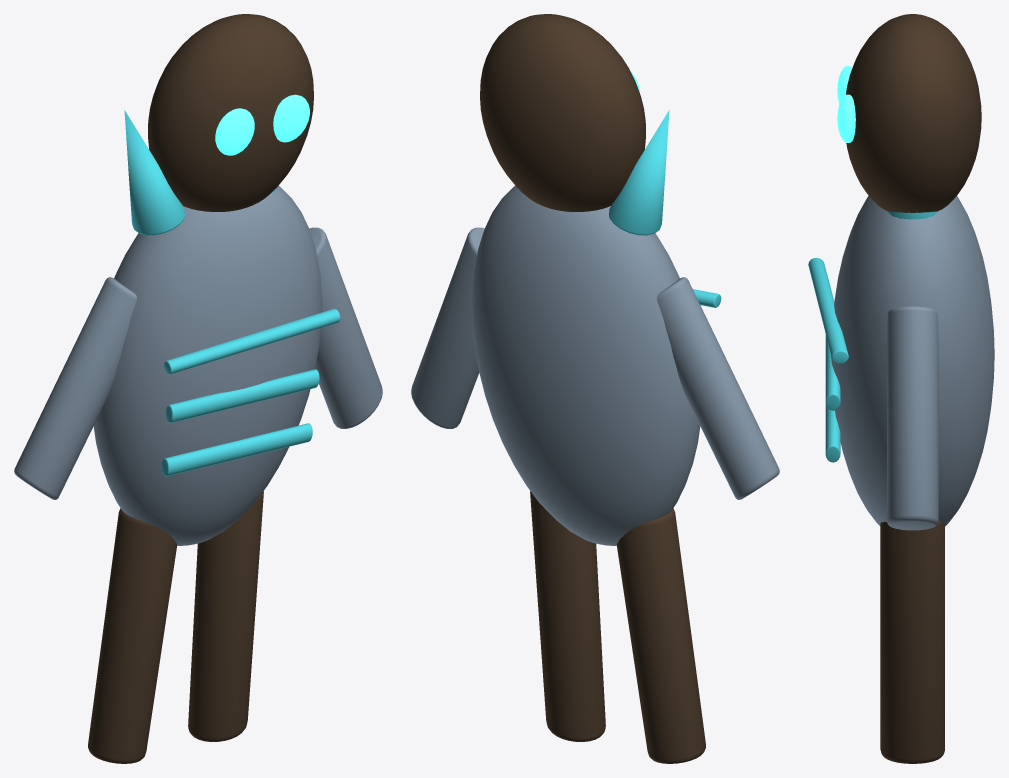
File: undead_v4.glb
3 views of the same model, side by side, from view 1: azimuth 30°, elevation 25°; view 2: azimuth 150°, elevation 25°; view 3: azimuth 270°, elevation 25° (orthographic). The views are drawn at different scales.
Visible parts, largest first — view 1: BODY_PRIMARY, HEAD_SECONDARY, LEG_L_SECONDARY, LEG_R_SECONDARY, ARM_L_PRIMARY, ARM_R_PRIMARY, CROWN_HORN_ACCENT, RIB_ACCENT, RIB_ACCENT.001, RIB_ACCENT.002, EYE_EMISSIVE, EYE_EMISSIVE.001; view 2: BODY_PRIMARY, HEAD_SECONDARY, LEG_L_SECONDARY, LEG_R_SECONDARY, ARM_L_PRIMARY, ARM_R_PRIMARY, CROWN_HORN_ACCENT; view 3: BODY_PRIMARY, HEAD_SECONDARY, LEG_R_SECONDARY, ARM_R_PRIMARY, RIB_ACCENT.002, EYE_EMISSIVE.001, RIB_ACCENT, RIB_ACCENT.001.
Boxes of the visible parts, x1,y1,x2,y2 form: BODY_PRIMARY: (93,185,322,545); HEAD_SECONDARY: (148,14,313,211); LEG_L_SECONDARY: (88,508,176,763); LEG_R_SECONDARY: (188,491,263,741); ARM_L_PRIMARY: (14,277,136,499); ARM_R_PRIMARY: (309,227,382,428); CROWN_HORN_ACCENT: (124,110,184,235); RIB_ACCENT: (161,423,312,476); RIB_ACCENT.001: (166,369,319,423); RIB_ACCENT.002: (164,308,340,374); EYE_EMISSIVE: (215,108,254,155); EYE_EMISSIVE.001: (273,94,309,142); BODY_PRIMARY: (471,185,700,545); HEAD_SECONDARY: (480,14,645,211); LEG_L_SECONDARY: (617,508,705,763); LEG_R_SECONDARY: (530,491,605,741); ARM_L_PRIMARY: (657,277,779,499); ARM_R_PRIMARY: (411,227,484,428); CROWN_HORN_ACCENT: (609,110,669,235); BODY_PRIMARY: (831,196,994,526); HEAD_SECONDARY: (846,14,981,212); LEG_R_SECONDARY: (880,521,944,763); ARM_R_PRIMARY: (887,306,938,530); RIB_ACCENT.002: (808,257,848,363); EYE_EMISSIVE.001: (837,94,855,142); RIB_ACCENT: (825,404,840,462); RIB_ACCENT.001: (825,334,840,410).
Size of the model in its own units: 1.76 by 3.3 by 0.7438.
